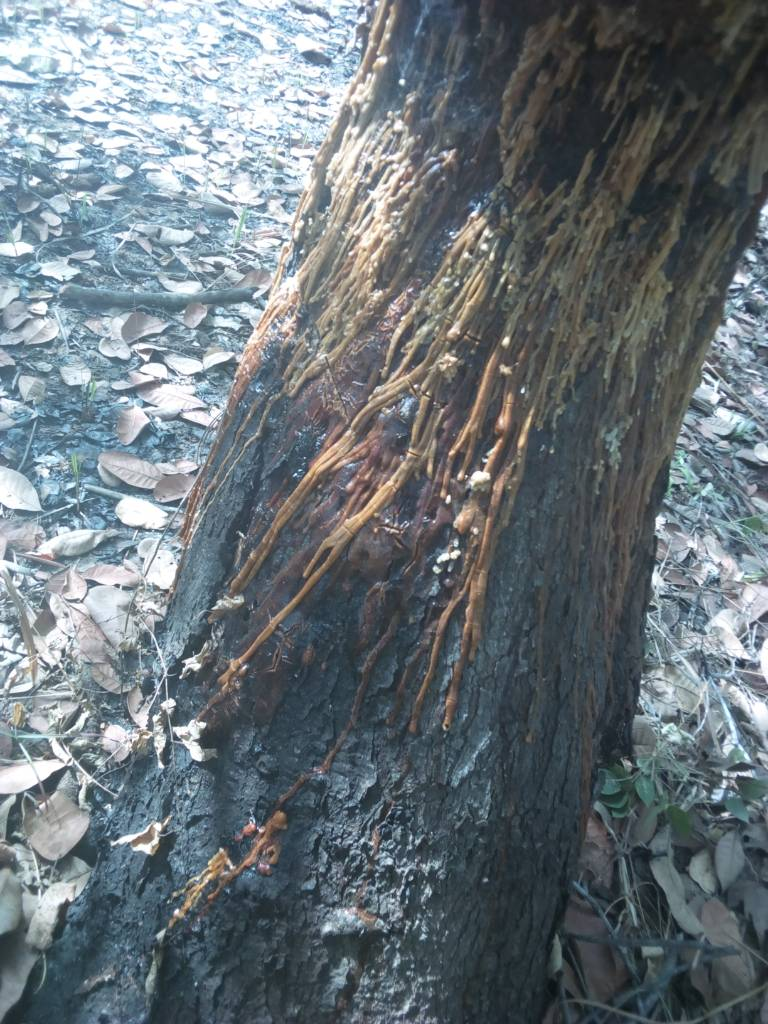Gommose: (115, 1, 768, 969)
